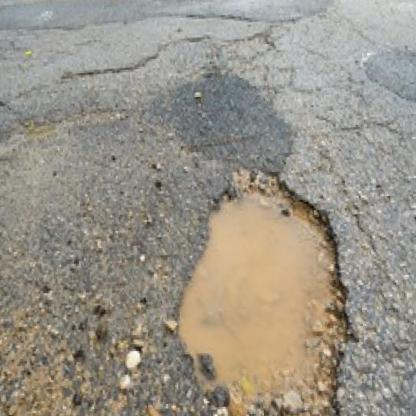pothole: (160, 162, 364, 416)
